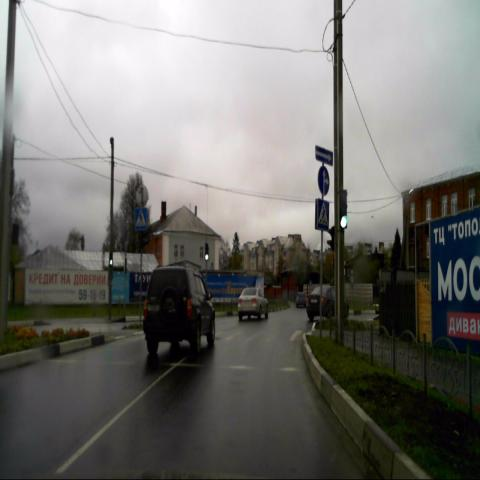5_7_1: (314, 145, 332, 166)
